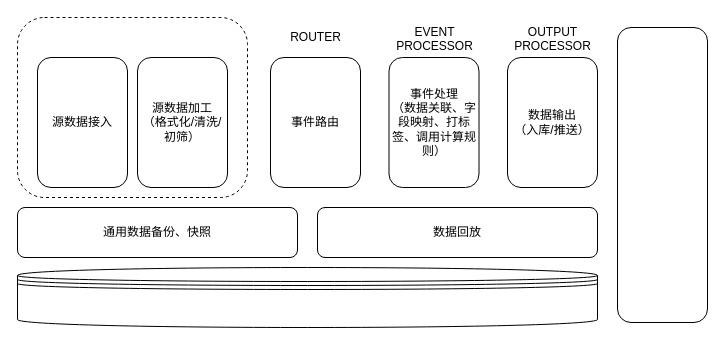
The diagram is 725 pixels wide and 345 high, and some of its shapes have lost their labels. The box of each missing label's shape, as (x1, y1, x2, y2) in pixels:
ElasticSearch、Redis、AeroSpike: (16, 266, 598, 328)
INPUT PROCESSOR: (16, 16, 248, 198)
通用日志监控 （CAT）: (616, 26, 708, 322)
